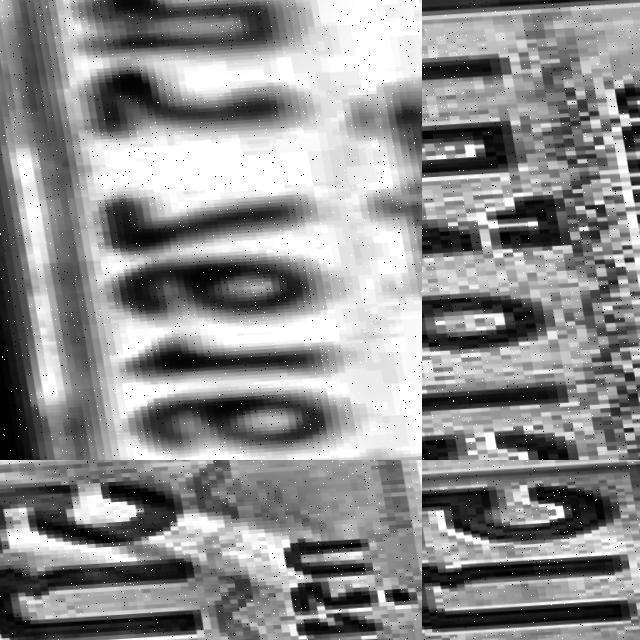license-plate: (0, 0, 422, 460), (422, 0, 640, 460), (0, 460, 422, 640), (422, 460, 640, 640)
